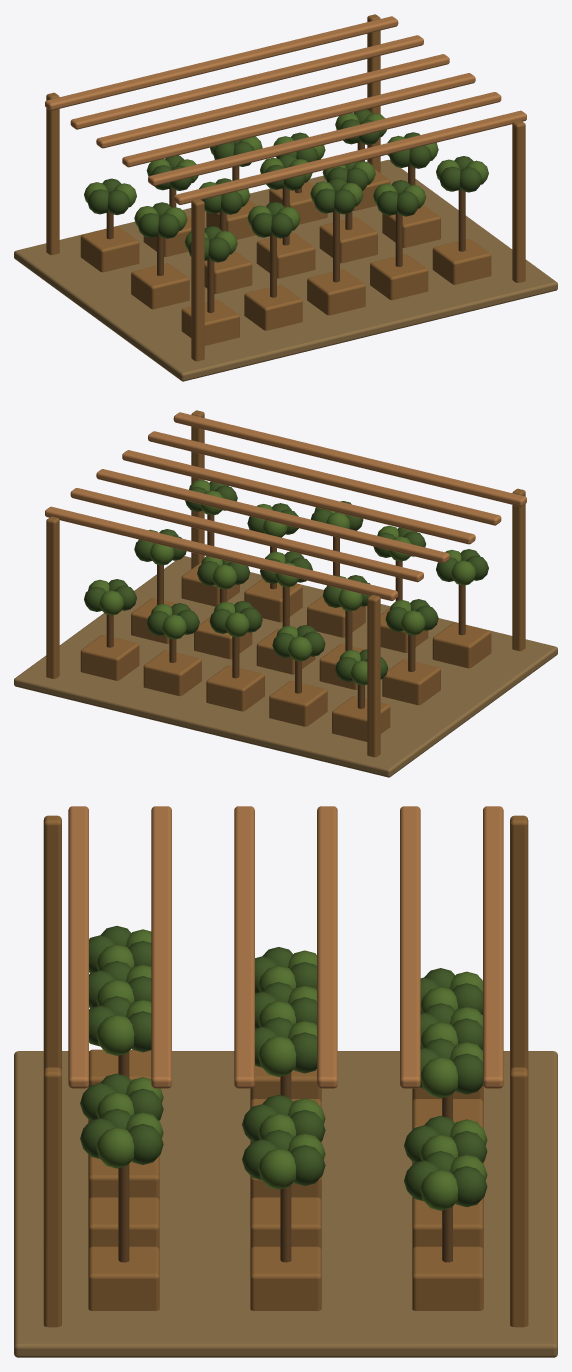
File: tree-nursery.glb
3 views of the same model, one above another, from view 1: azimuth 30°, elevation 25°; view 2: azimuth 150°, elevation 25°; view 3: azimuth 270°, elevation 25° (orthographic). The views are drawn at different scales.
Visible parts, largest first — view 1: tree-nursery-farm-dirt, tree-nursery-farm-wood-dark, tree-nursery-farm-wood-light, tree-nursery-farm-leaf-dark, tree-nursery-farm-leaf, tree-nursery-farm-wood-shadow; view 2: tree-nursery-farm-dirt, tree-nursery-farm-wood-dark, tree-nursery-farm-wood-light, tree-nursery-farm-leaf-dark, tree-nursery-farm-leaf, tree-nursery-farm-wood-shadow; view 3: tree-nursery-farm-dirt, tree-nursery-farm-wood-dark, tree-nursery-farm-wood-light, tree-nursery-farm-leaf-dark, tree-nursery-farm-leaf, tree-nursery-farm-wood-shadow.
Part boxes in pixels (left/top/right/bottom): tree-nursery-farm-dirt: left=14, top=159, right=557, bottom=381; tree-nursery-farm-wood-dark: left=46, top=14, right=525, bottom=361; tree-nursery-farm-wood-light: left=45, top=16, right=526, bottom=204; tree-nursery-farm-leaf-dark: left=87, top=109, right=481, bottom=262; tree-nursery-farm-leaf: left=84, top=113, right=488, bottom=254; tree-nursery-farm-wood-shadow: left=106, top=141, right=465, bottom=312; tree-nursery-farm-dirt: left=14, top=556, right=557, bottom=777; tree-nursery-farm-wood-dark: left=46, top=410, right=525, bottom=757; tree-nursery-farm-wood-light: left=45, top=412, right=526, bottom=600; tree-nursery-farm-leaf-dark: left=84, top=481, right=488, bottom=681; tree-nursery-farm-leaf: left=88, top=479, right=475, bottom=685; tree-nursery-farm-wood-shadow: left=106, top=514, right=465, bottom=708; tree-nursery-farm-dirt: left=14, top=1051, right=557, bottom=1357; tree-nursery-farm-wood-dark: left=43, top=815, right=528, bottom=1327; tree-nursery-farm-wood-light: left=68, top=806, right=503, bottom=1088; tree-nursery-farm-leaf-dark: left=80, top=926, right=487, bottom=1207; tree-nursery-farm-leaf: left=96, top=929, right=487, bottom=1210; tree-nursery-farm-wood-shadow: left=118, top=1051, right=452, bottom=1262.
Bounding box in the file's own units: 5.4 × 2.3 × 4.2.
